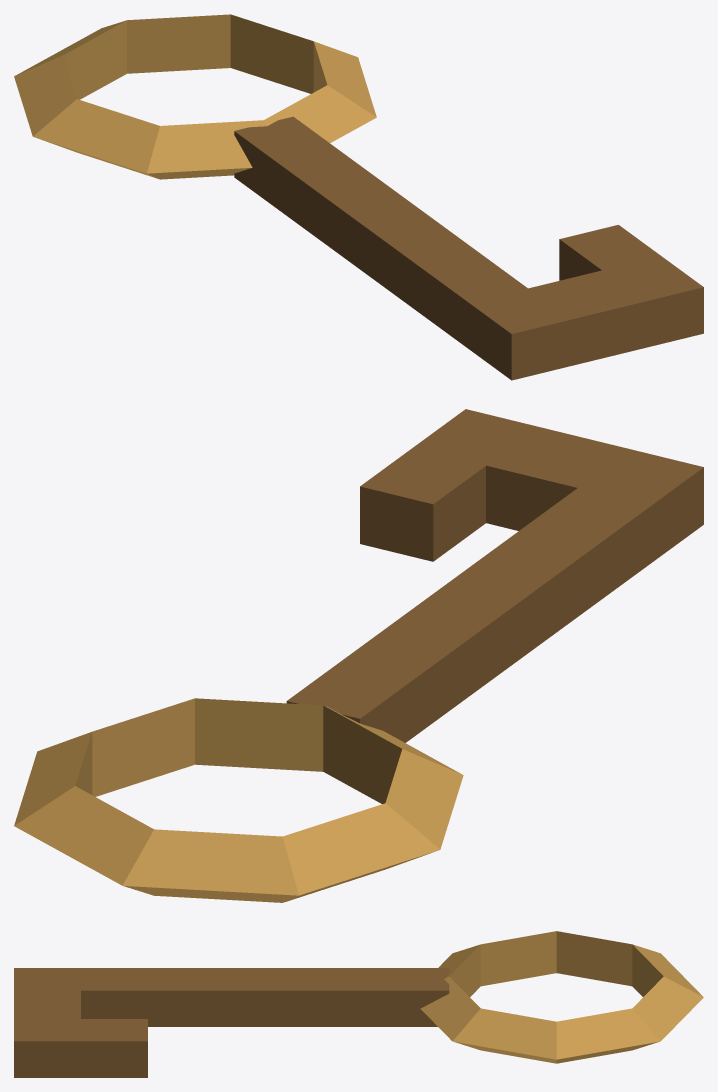
The model's file is golden_key.glb.
3 views of the same model, one above another, from view 1: azimuth 30°, elevation 25°; view 2: azimuth 150°, elevation 25°; view 3: azimuth 270°, elevation 25° (orthographic). The views are drawn at different scales.
Visible parts, largest first — view 1: SM_Magic_Key; view 2: SM_Magic_Key; view 3: SM_Magic_Key.
Part boxes in pixels (<box>): SM_Magic_Key: <box>14,14,703,380</box>; SM_Magic_Key: <box>14,409,703,902</box>; SM_Magic_Key: <box>14,931,703,1077</box>.
Size of the model in its own units: 0.044 by 0.00693 by 0.103.
1 material, 1 textured.
